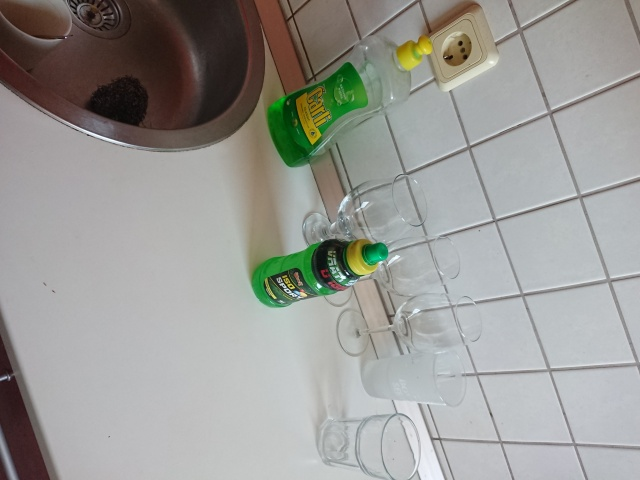Vindi Iso Sport Lemon-Grapefruit 500mL: (248, 236, 391, 311)
